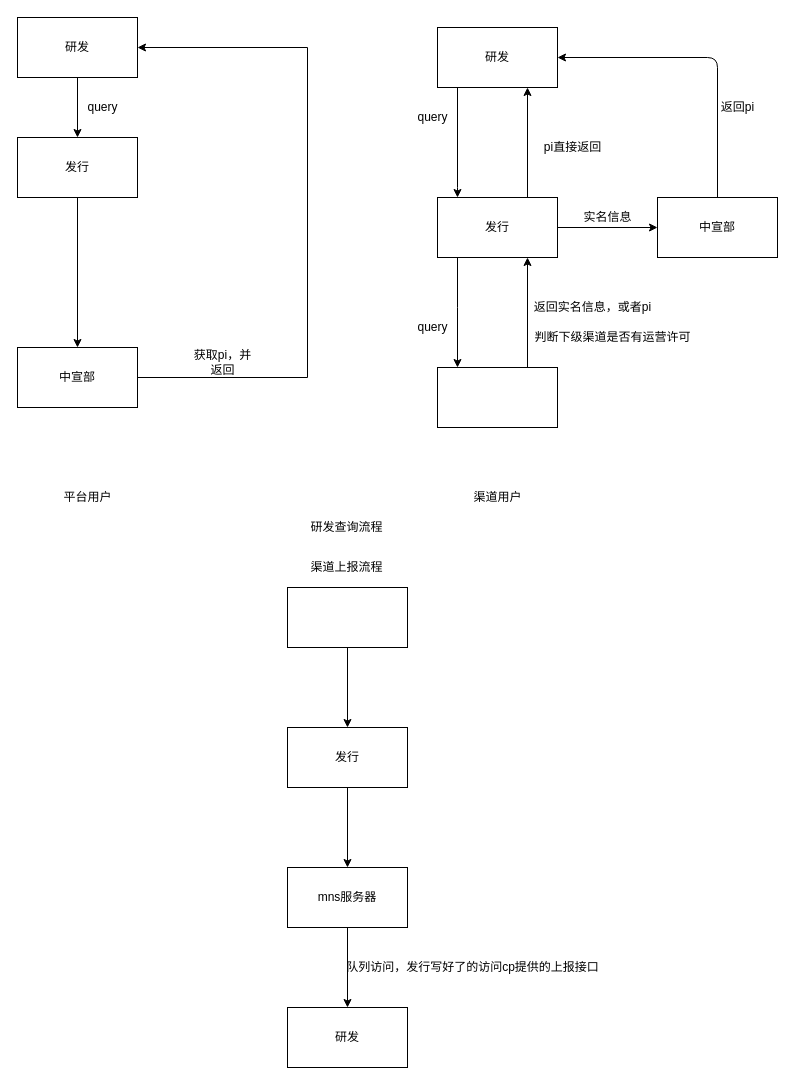
Some shapes in this 795 by 1085 pixel diagram are drawn without their labels. The shapes that lost their labels are listed below. From the top down, each one's centre as x and y in pixels, then its label:
At point 497,397: "下级渠道".
At point 347,617: "渠道".
